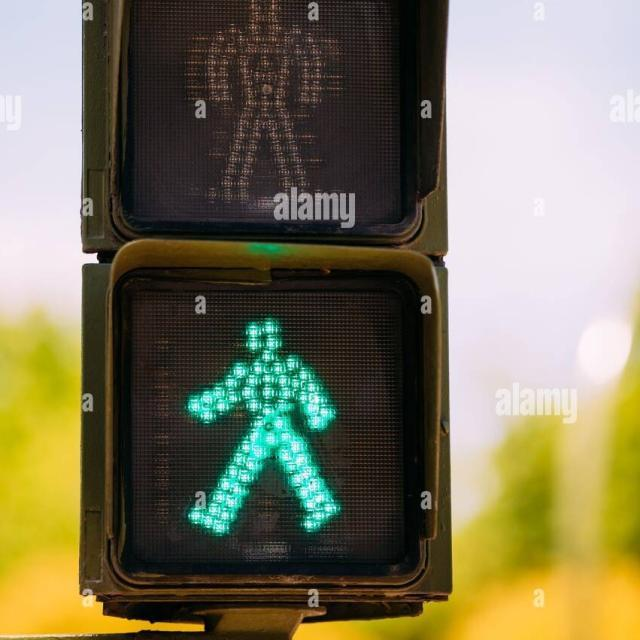green-light: (190, 320, 347, 535)
